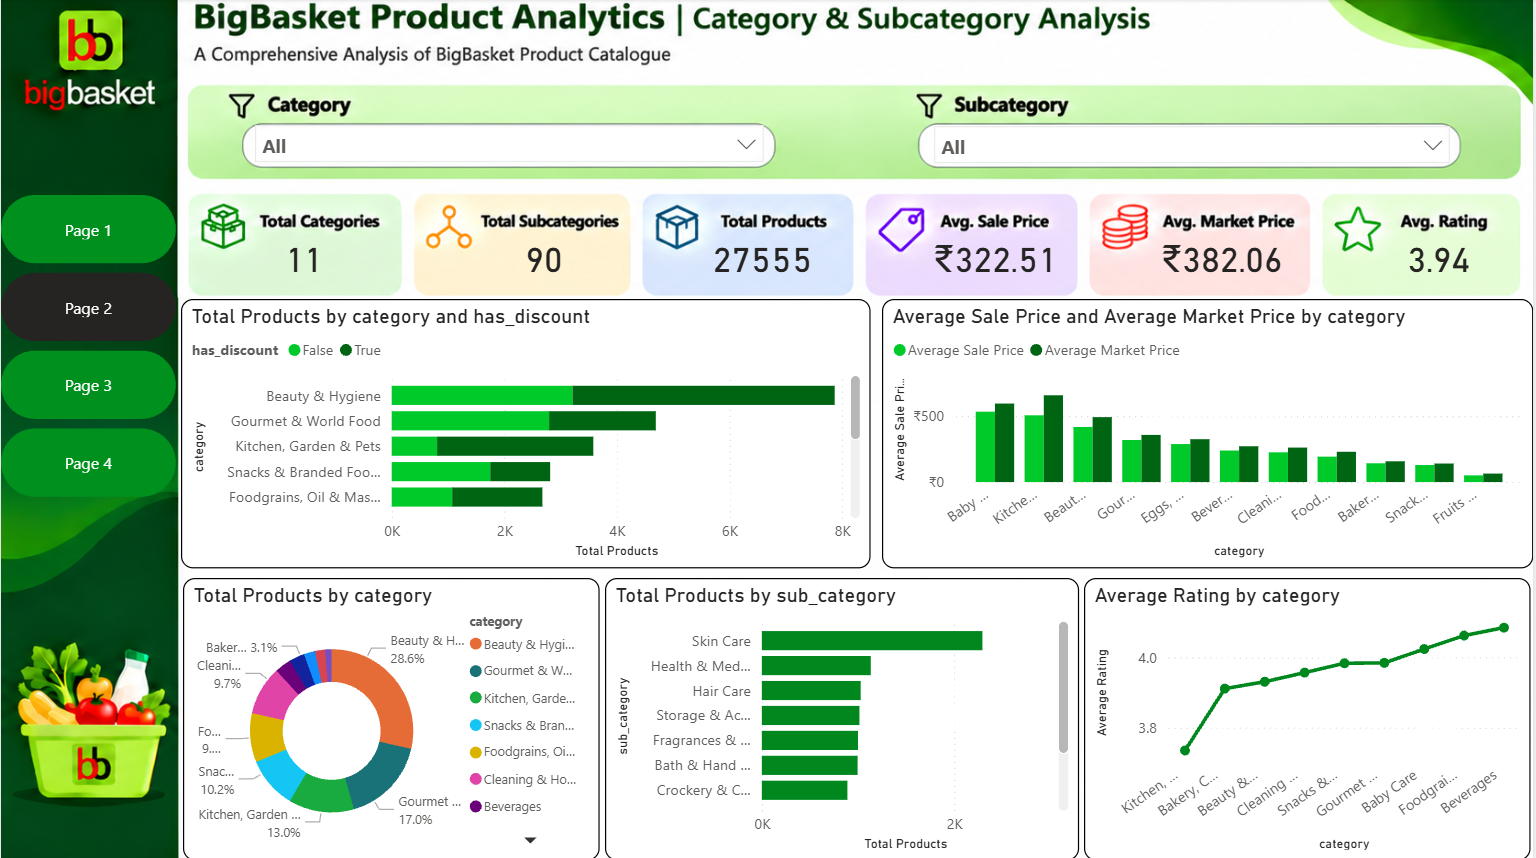

The dashboard page shown, as its layout file describes it:
{"tool":"powerbi","page":{"name":"Page 2","canvas":[1280,720],"ordinal":1},"visuals":[{"type":"card","fields":{"Values":["DAX_Measures.Total Categories"]},"box":[204.2,196.9,98.5,38.3],"z":1000},{"type":"card","fields":{"Values":["DAX_Measures.Average Rating"]},"box":[1151.5,196.9,98.5,38.3],"z":2000},{"type":"card","fields":{"Values":["DAX_Measures.Average Market Price"]},"box":[961.8,196.9,115,38.3],"z":3000},{"type":"card","fields":{"Values":["DAX_Measures.Average Sale Price"]},"box":[773.2,196.9,114,38.3],"z":4000},{"type":"card","fields":{"Values":["DAX_Measures.Total Products"]},"box":[570,196.9,132.7,38.3],"z":5000},{"type":"card","fields":{"Values":["DAX_Measures.Total Subcategories"]},"box":[404.2,196.9,98.5,38.3],"z":6000},{"type":"donutChart","fields":{"Category":["Products.category"],"Y":["DAX_Measures.Total Products"]},"box":[152.4,484,348.2,236.3],"z":7000},{"type":"clusteredBarChart","fields":{"Y":["DAX_Measures.Total Products"],"Category":["Products.sub_category"]},"box":[504.7,483.7,395.9,236.3],"z":8000},{"type":"lineChart","fields":{"Category":["Products.category"],"Y":["DAX_Measures.Average Rating"]},"box":[904.8,483.7,373.1,236.3],"z":9000},{"type":"barChart","fields":{"Category":["Products.category"],"Y":["DAX_Measures.Total Products"],"Series":["Products.has_discount"]},"box":[150.3,250.8,576.3,224.9],"z":10000},{"type":"clusteredColumnChart","fields":{"Category":["Products.category"],"Y":["DAX_Measures.Average Sale Price","DAX_Measures.Average Market Price"]},"box":[735.9,250.8,544.1,224.9],"z":11000},{"type":"shape","box":[212.5,107.8,423.9,28],"z":12000},{"type":"shape","box":[773.2,107.8,435.3,28],"z":13000},{"type":"slicer","fields":{"Values":["Products.sub_category"]},"box":[769,96.4,450.9,50.8],"z":14000},{"type":"slicer","fields":{"Values":["Products.category"]},"box":[202.1,95.4,444.6,44.6],"z":14500},{"type":"pageNavigator","box":[0,163.8,146.1,253.9],"z":14501}]}

Visuals, with their boxes on the page's 1280x720 design canvas (x1, y1, x2, y2). These are canvas units, not pixel positions in the 1536x858 screenshot, which may show the page scaled, cropped or inside an application window:
card - DAX_Measures.Total Categories: 204 197 303 235
card - DAX_Measures.Average Rating: 1152 197 1250 235
card - DAX_Measures.Average Market Price: 962 197 1077 235
card - DAX_Measures.Average Sale Price: 773 197 887 235
card - DAX_Measures.Total Products: 570 197 703 235
card - DAX_Measures.Total Subcategories: 404 197 503 235
donutChart - Products.category x DAX_Measures.Total Products: 152 484 501 720
clusteredBarChart - DAX_Measures.Total Products x Products.sub_category: 505 484 901 720
lineChart - Products.category x DAX_Measures.Average Rating: 905 484 1278 720
barChart - Products.category x DAX_Measures.Total Products: 150 251 727 476
clusteredColumnChart - Products.category x DAX_Measures.Average Sale Price: 736 251 1280 476
shape: 212 108 636 136
shape: 773 108 1208 136
slicer - Products.sub_category: 769 96 1220 147
slicer - Products.category: 202 95 647 140
pageNavigator: 0 164 146 418
